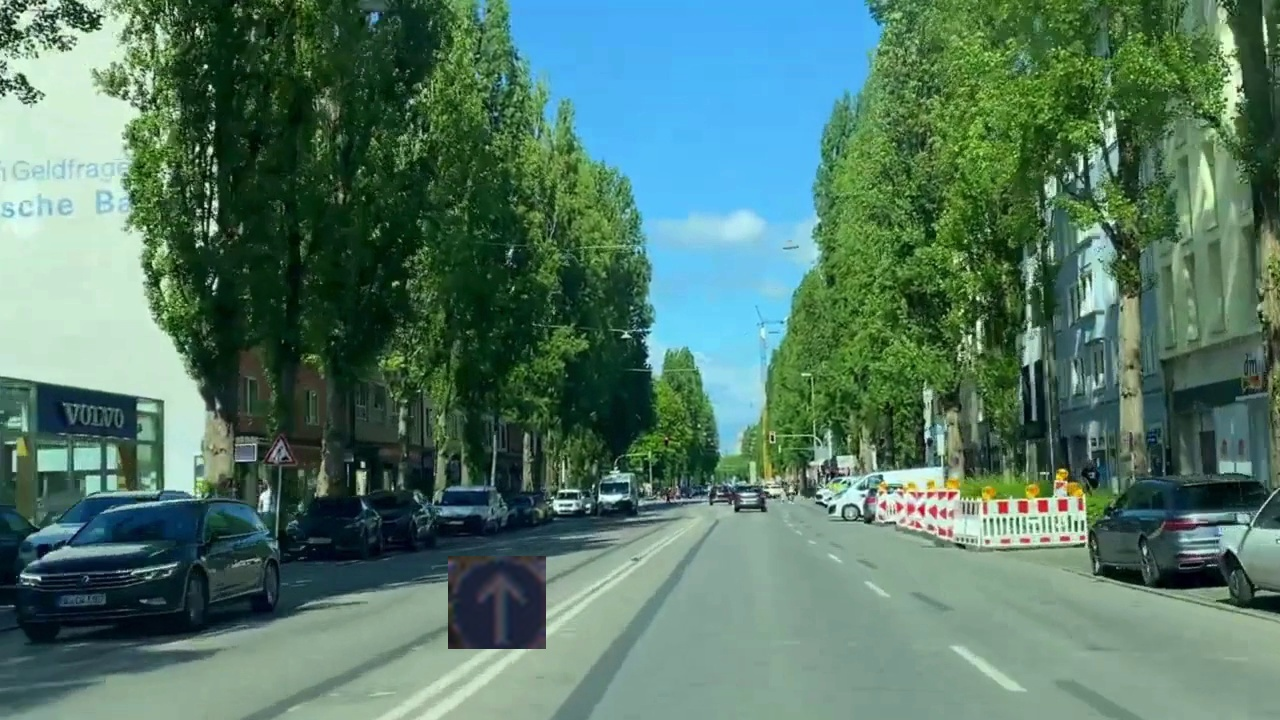Ahead only: (448, 556, 546, 649)
